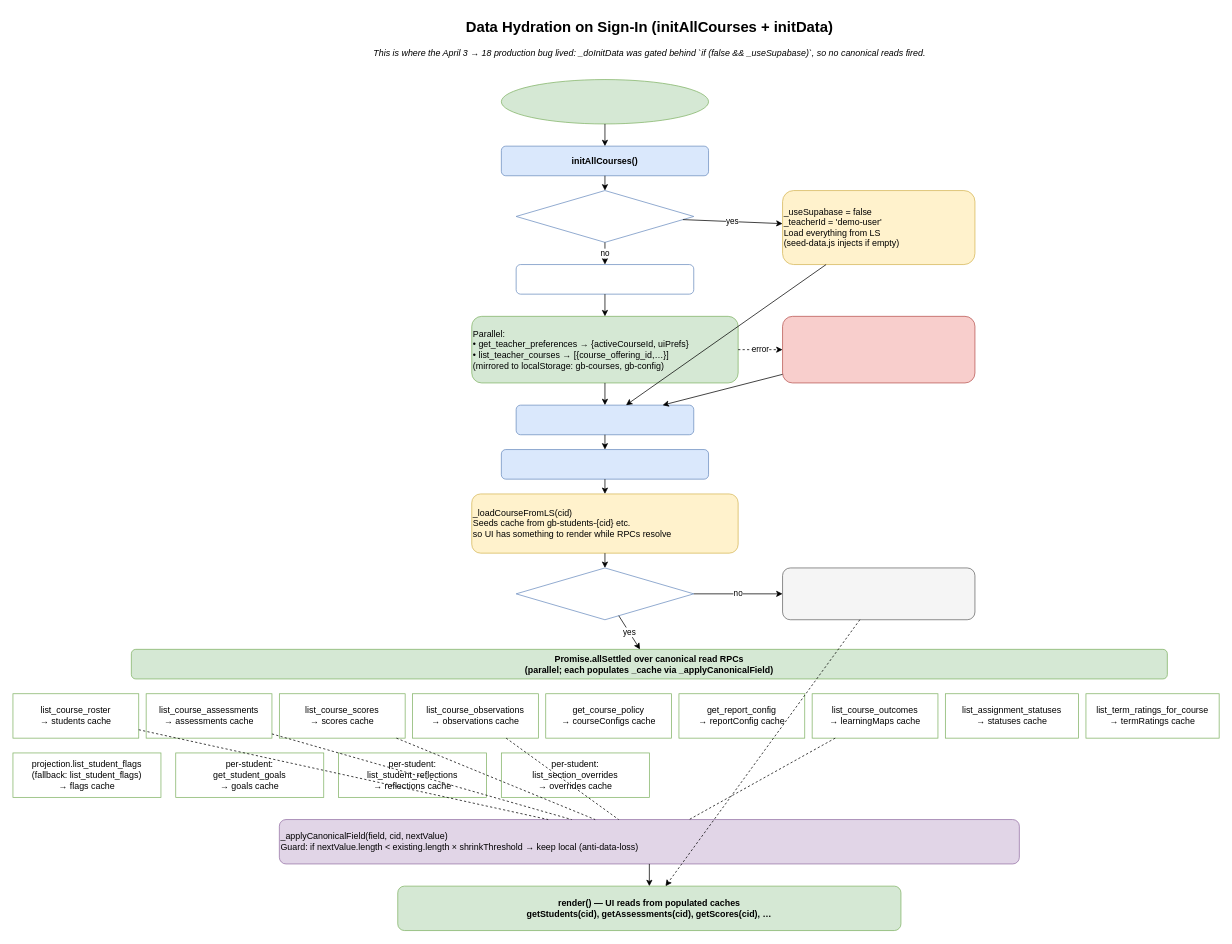
Image size: 1232x944. Some labels were removed from this diagram. Each missing label, with the centre of its shape:
"_useSupabase && _isUuid(cid)?" goes at point 604,593.
"cid = getActiveCourse()" goes at point 604,419.
"gb-demo-mode === '1'?" goes at point 604,216.
"initData(cid) → _doInitData(cid)" goes at point 605,464.
"Portal boots (app.html or teacher-mobile/index.html)" goes at point 605,101.
"RPC failed? → _useSupabase=false → load from LS: gb-courses, gb-config" goes at point 878,349.
"sb.auth.getSession()" goes at point 604,279.
"Skip canonical reads (demo, offline, or local-only course)" goes at point 878,593.
